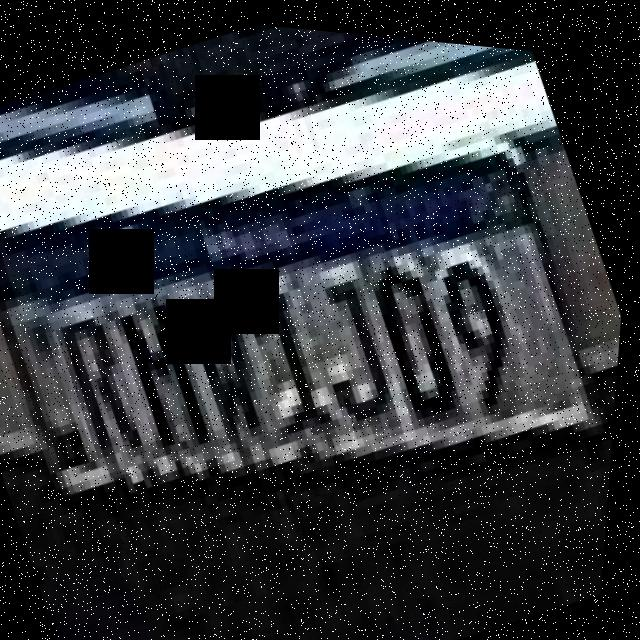0: (346, 227, 494, 437)
1: (232, 259, 355, 443)
9: (416, 215, 556, 418)
J: (292, 245, 428, 441)
M: (107, 273, 235, 461)
R: (43, 290, 173, 481)
W: (157, 252, 291, 449)
